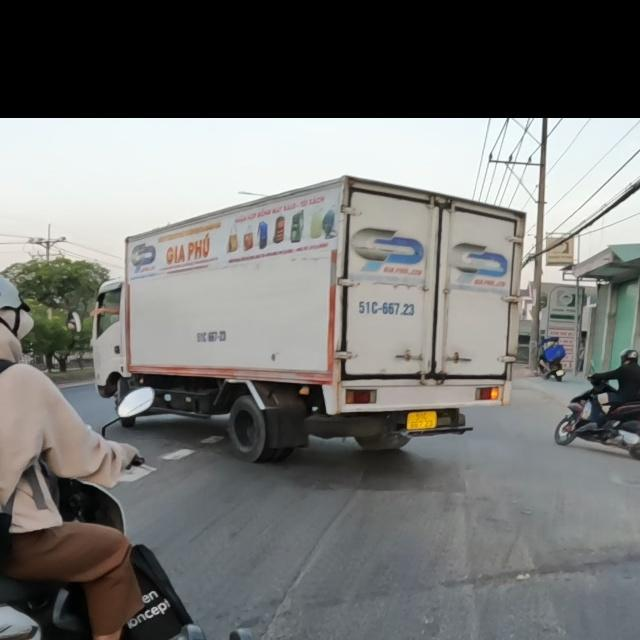license-plate: (405, 410, 438, 432)
